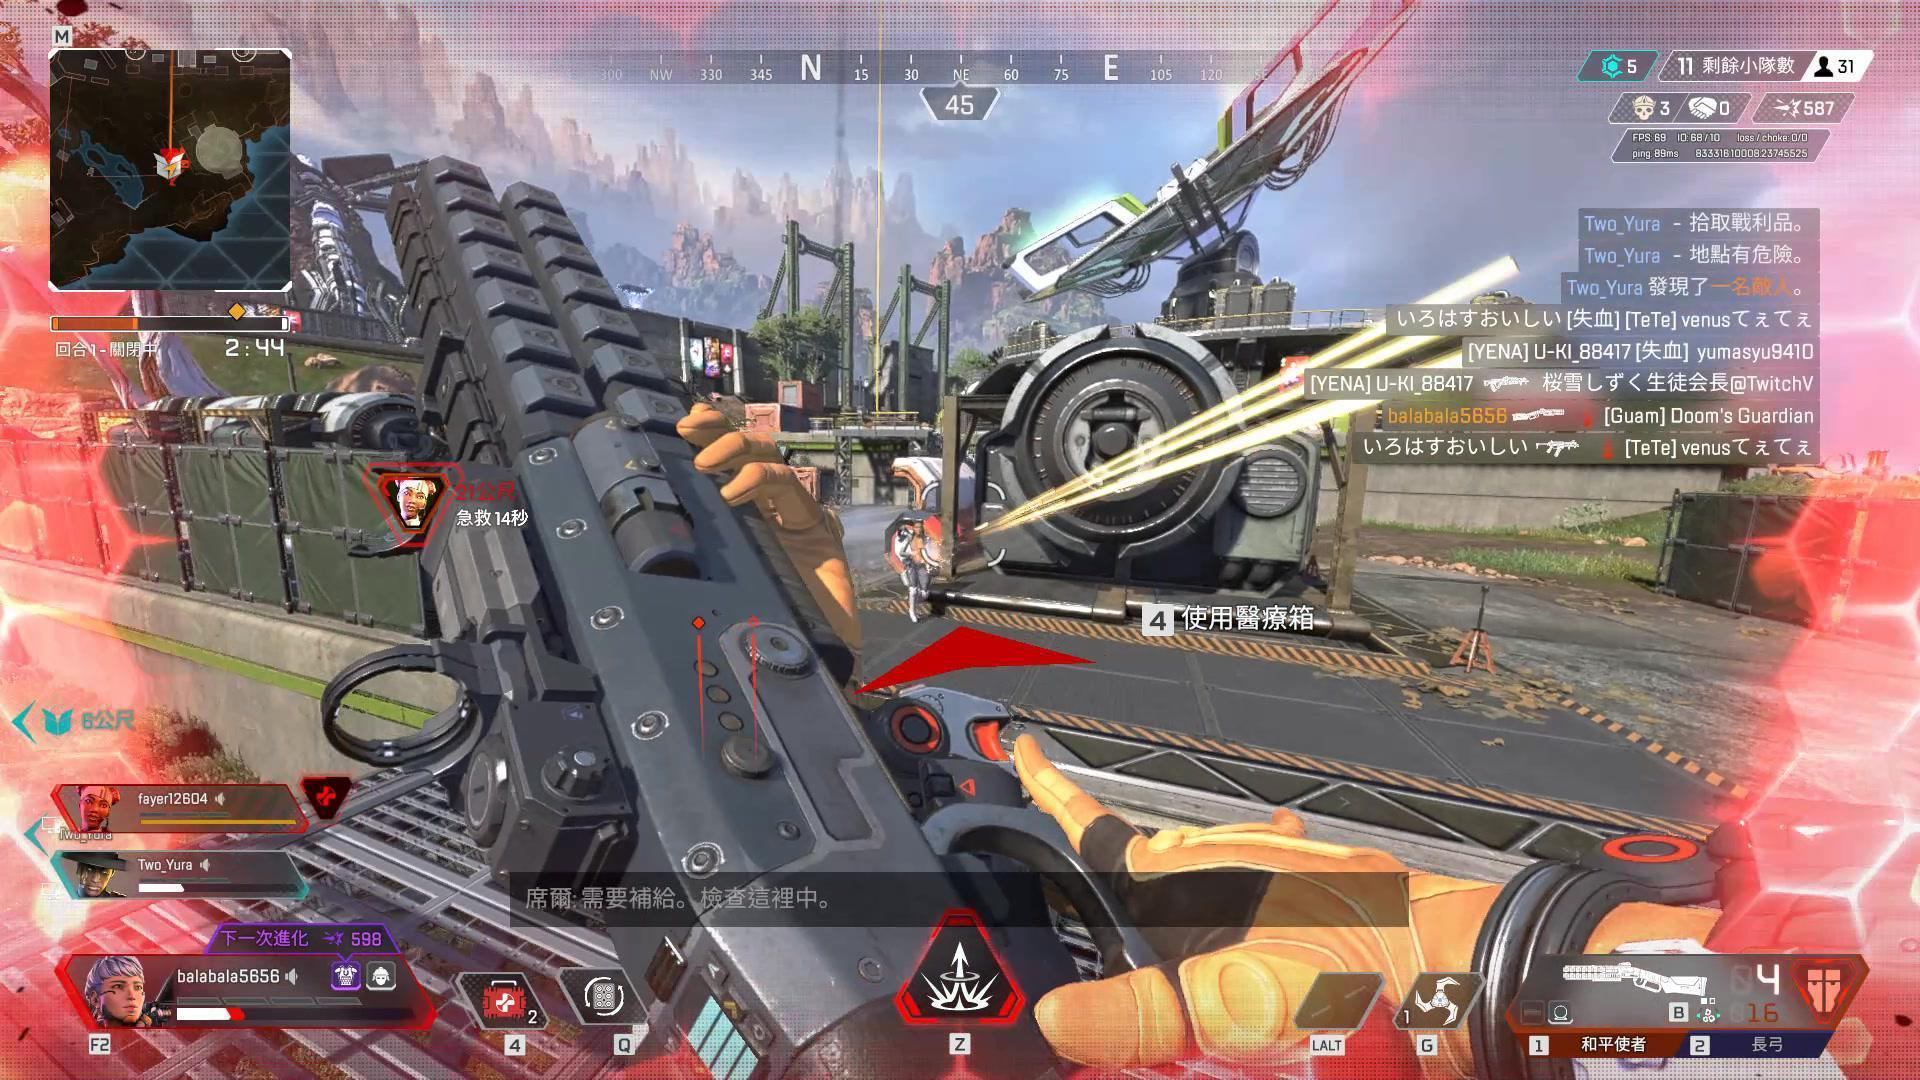avatar: (893, 517, 937, 627)
